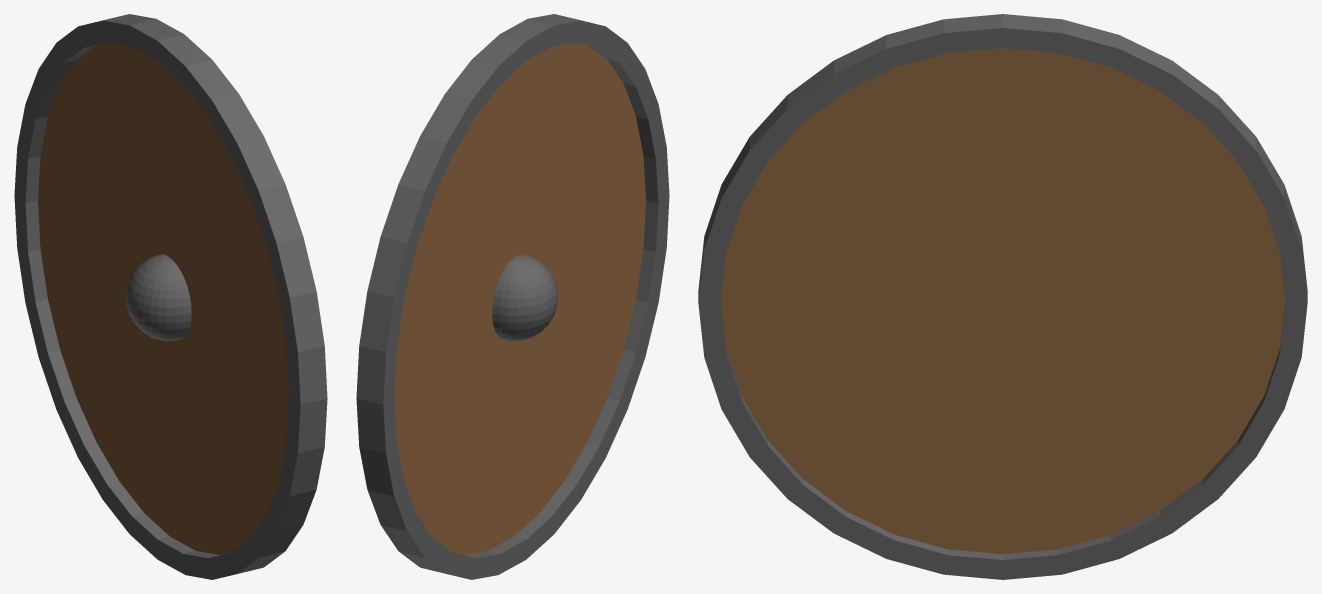
The model's file is Shield1.dae.
3 views of the same model, side by side, from view 1: azimuth 30°, elevation 25°; view 2: azimuth 150°, elevation 25°; view 3: azimuth 270°, elevation 25° (orthographic). The views are drawn at different scales.
Visible parts, largest first — view 1: Cylinder; view 2: Cylinder; view 3: Cylinder.
Boxes of the visible parts, x1,y1,x2,y2 form: Cylinder: (14, 14, 327, 579); Cylinder: (356, 14, 669, 579); Cylinder: (698, 14, 1307, 579).
Size of the model in its own units: 0.5071 by 4.77 by 4.77.
Materials: 1 (1 with a texture image).
